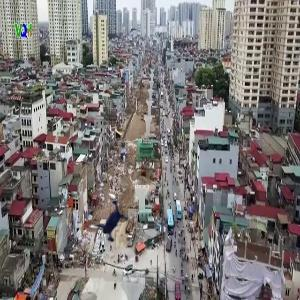drone: (79, 191, 142, 254)
